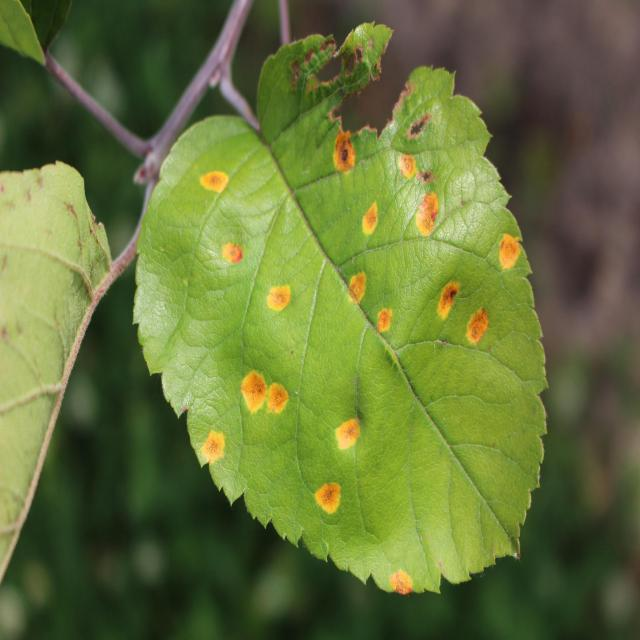Rust: (324, 108, 363, 182), (367, 557, 426, 605), (231, 352, 269, 422), (332, 396, 371, 464), (308, 476, 356, 530), (266, 374, 302, 438), (460, 303, 502, 357), (254, 271, 298, 321), (431, 270, 462, 340), (199, 416, 231, 481), (188, 157, 234, 200), (491, 220, 523, 275), (414, 184, 442, 243), (341, 256, 370, 312), (373, 296, 398, 357), (391, 144, 422, 193), (216, 230, 248, 274), (358, 191, 381, 243)
